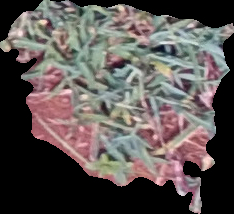grass: (1, 1, 231, 212)
